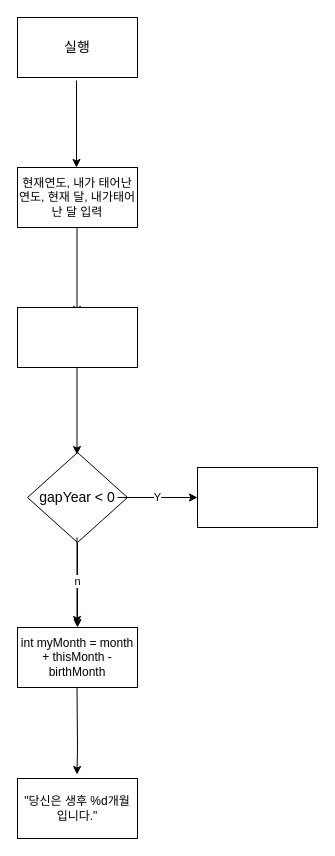
This 335x856 diagram has some shape labels left out. The shapes that lost their labels are listed below. From the top down, each one's centre as x and y in pixels, then its label:
[77,337]: int gapYear = thisYear - birthYear
[257,497]: "이 값은 잘못 됐습니다."
